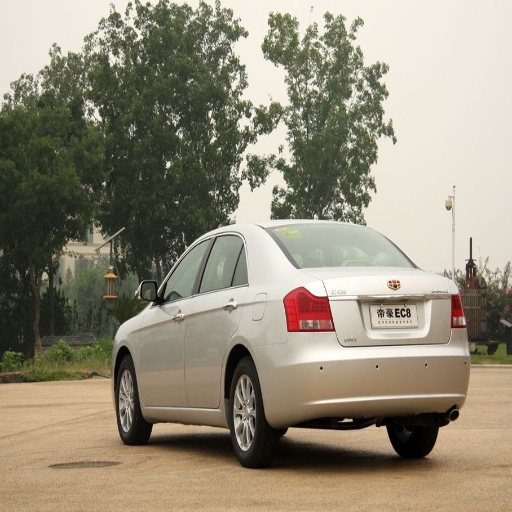back_bumper: (263, 332, 469, 423)
back_glass: (267, 223, 408, 267)
back_left_door: (186, 230, 250, 408)
